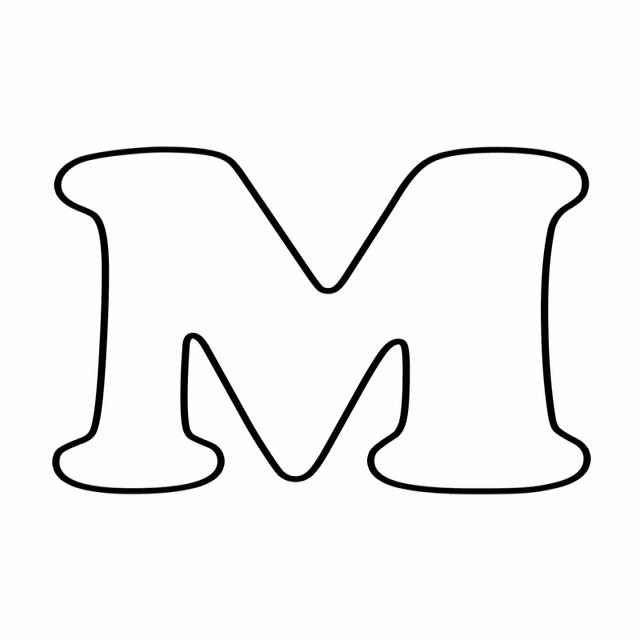M: (15, 118, 619, 550)
